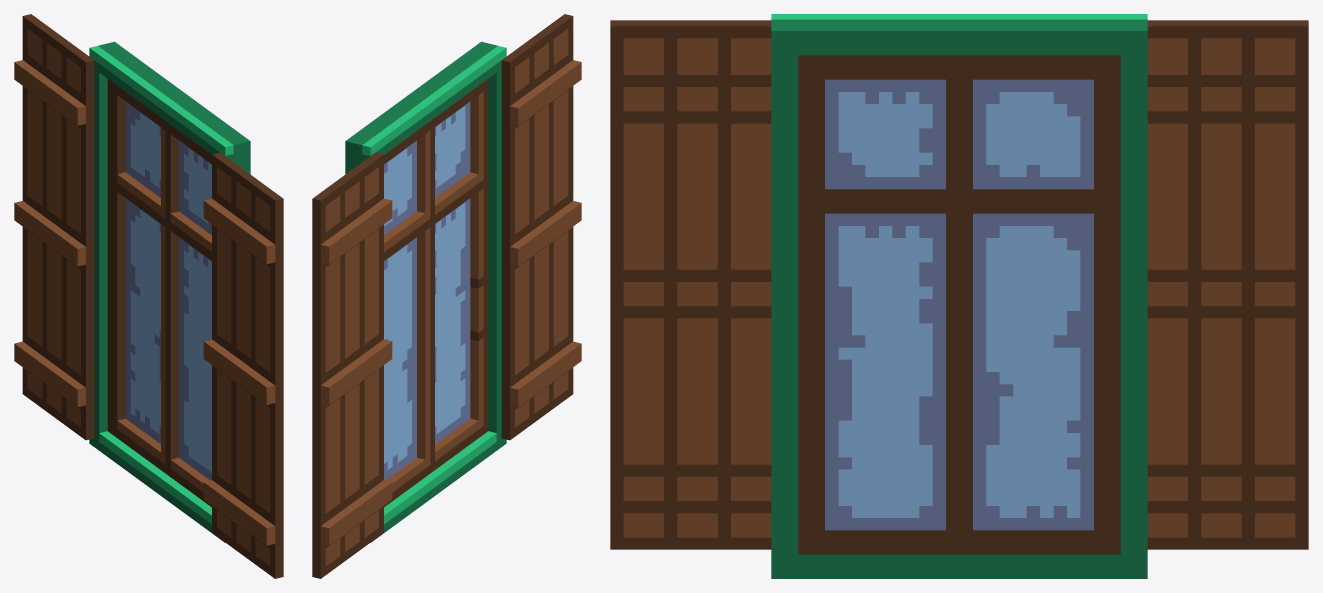
The model's file is window_textured_big_brown_green.obj.
3 renders of one model, left to right at view 1: azimuth 30°, elevation 25°; view 2: azimuth 150°, elevation 25°; view 3: azimuth 270°, elevation 25°, orthographic. The views are drawn at different scales.
Bounding box in the file's own units: 0.5 × 4.5 × 5.2.
Materials: 1 (1 with a texture image).
